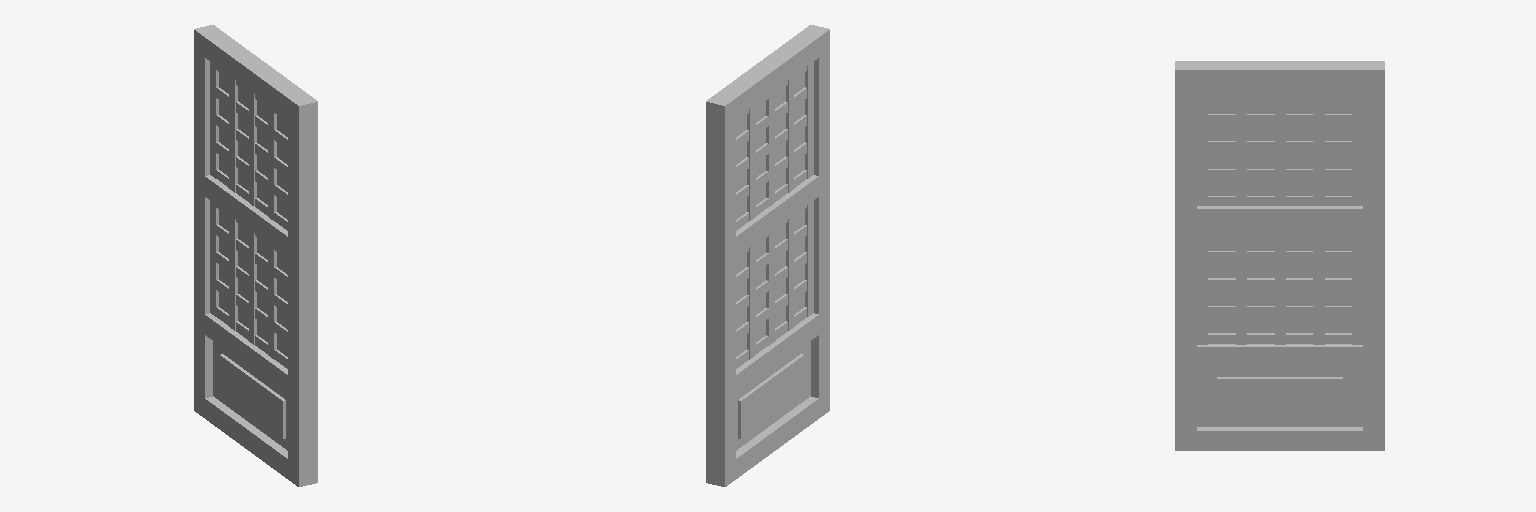
The model's file is house_windows.obj.
The picture shows the model from 3 angles: view 1: azimuth 30°, elevation 25°; view 2: azimuth 150°, elevation 25°; view 3: azimuth 270°, elevation 25°; orthographic projection.
Visible parts, largest first — view 1: Cube.136_Mesh, Cube.144_Mesh, Panel_Mesh, Cube.142_Mesh, Cube.139_Mesh, Cube.128_Mesh, Cube.140_Mesh, Cube.145_Mesh, Cube.138_Mesh, Cube.143_Mesh; view 2: Cube.139_Mesh, Cube.144_Mesh, Panel_Mesh, Cube.142_Mesh, Cube.136_Mesh, Cube.128_Mesh, Cube.140_Mesh, Cube.145_Mesh, Cube.138_Mesh, Cube.143_Mesh; view 3: Panel_Mesh, Cube.144_Mesh, Cube.142_Mesh, Cube.136_Mesh, Cube.139_Mesh, Cube.128_Mesh, Cube.145_Mesh, Cube.140_Mesh, Cube.138_Mesh, Cube.143_Mesh.
Part boxes in pixels (x1,y1,x2,y2): Cube.136_Mesh: (288, 119, 317, 466); Cube.144_Mesh: (210, 62, 276, 358); Panel_Mesh: (213, 73, 287, 450); Cube.142_Mesh: (216, 66, 287, 368); Cube.139_Mesh: (194, 50, 212, 397); Cube.128_Mesh: (194, 25, 317, 125); Cube.140_Mesh: (194, 391, 317, 486); Cube.145_Mesh: (220, 354, 285, 438); Cube.138_Mesh: (205, 313, 287, 394); Cube.143_Mesh: (205, 175, 287, 256); Cube.139_Mesh: (706, 119, 735, 466); Cube.144_Mesh: (747, 62, 813, 359); Panel_Mesh: (736, 73, 810, 450); Cube.142_Mesh: (736, 67, 806, 368); Cube.136_Mesh: (811, 50, 829, 397); Cube.128_Mesh: (706, 25, 829, 125); Cube.140_Mesh: (706, 391, 829, 486); Cube.145_Mesh: (738, 354, 803, 438); Cube.138_Mesh: (736, 313, 818, 394); Cube.143_Mesh: (736, 175, 818, 256); Panel_Mesh: (1197, 98, 1362, 426); Cube.144_Mesh: (1197, 90, 1362, 344); Cube.142_Mesh: (1208, 90, 1351, 343); Cube.136_Mesh: (1175, 90, 1196, 430); Cube.139_Mesh: (1363, 90, 1384, 430); Cube.128_Mesh: (1175, 61, 1384, 89); Cube.145_Mesh: (1217, 377, 1342, 416); Cube.140_Mesh: (1175, 427, 1384, 450); Cube.138_Mesh: (1197, 344, 1362, 367); Cube.143_Mesh: (1197, 206, 1362, 228).
Bounding box in the file's own units: 0.16 × 3 × 1.5.